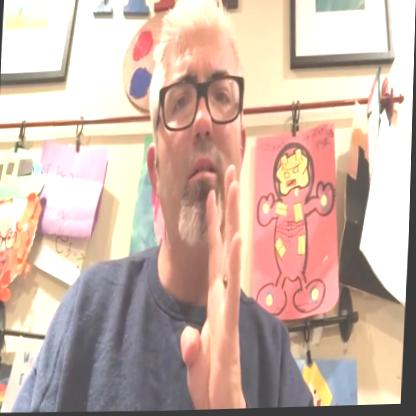Talk: (134, 0, 272, 413)
